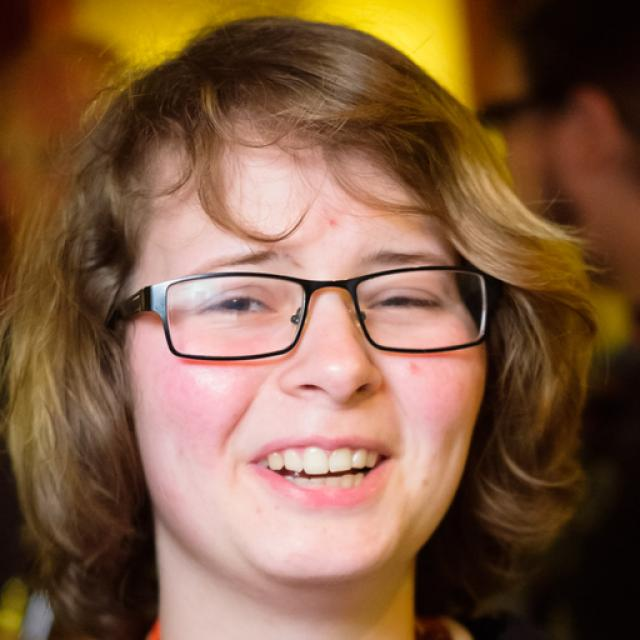Acne: (398, 354, 426, 381), (322, 217, 340, 230)
